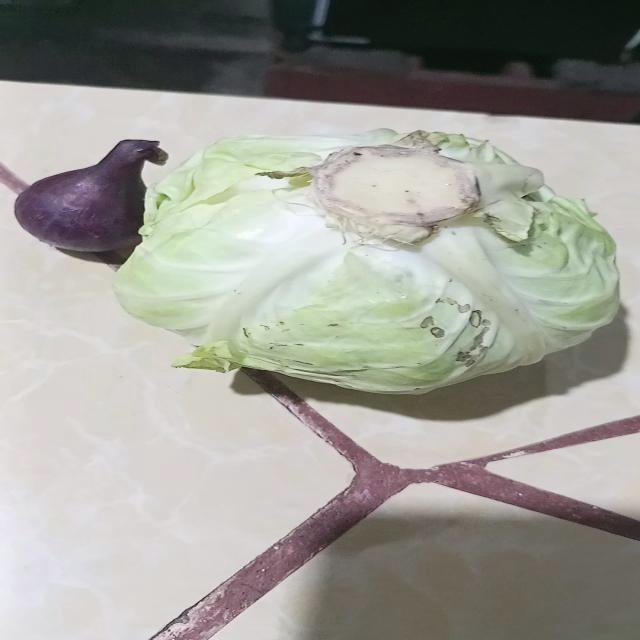cabbage: (112, 131, 622, 397)
onion: (13, 139, 167, 256)
